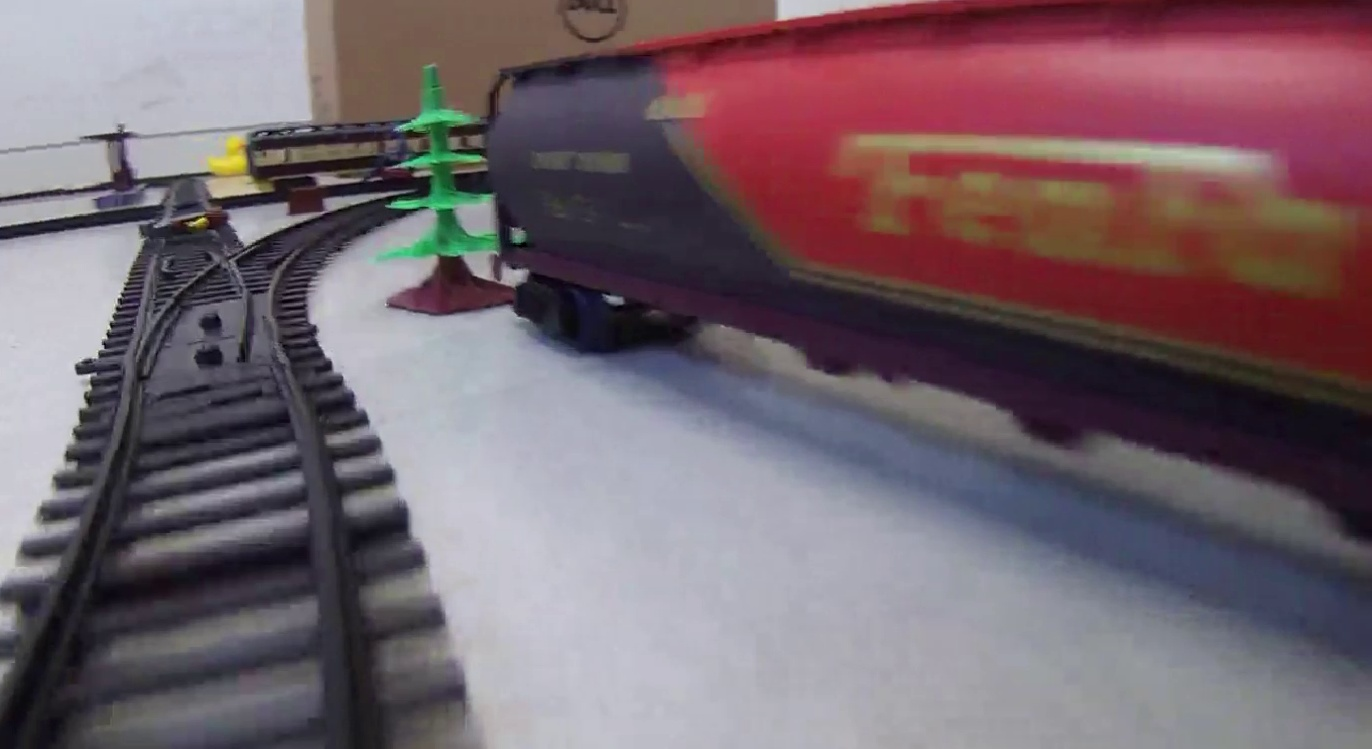tree: (380, 67, 495, 315)
